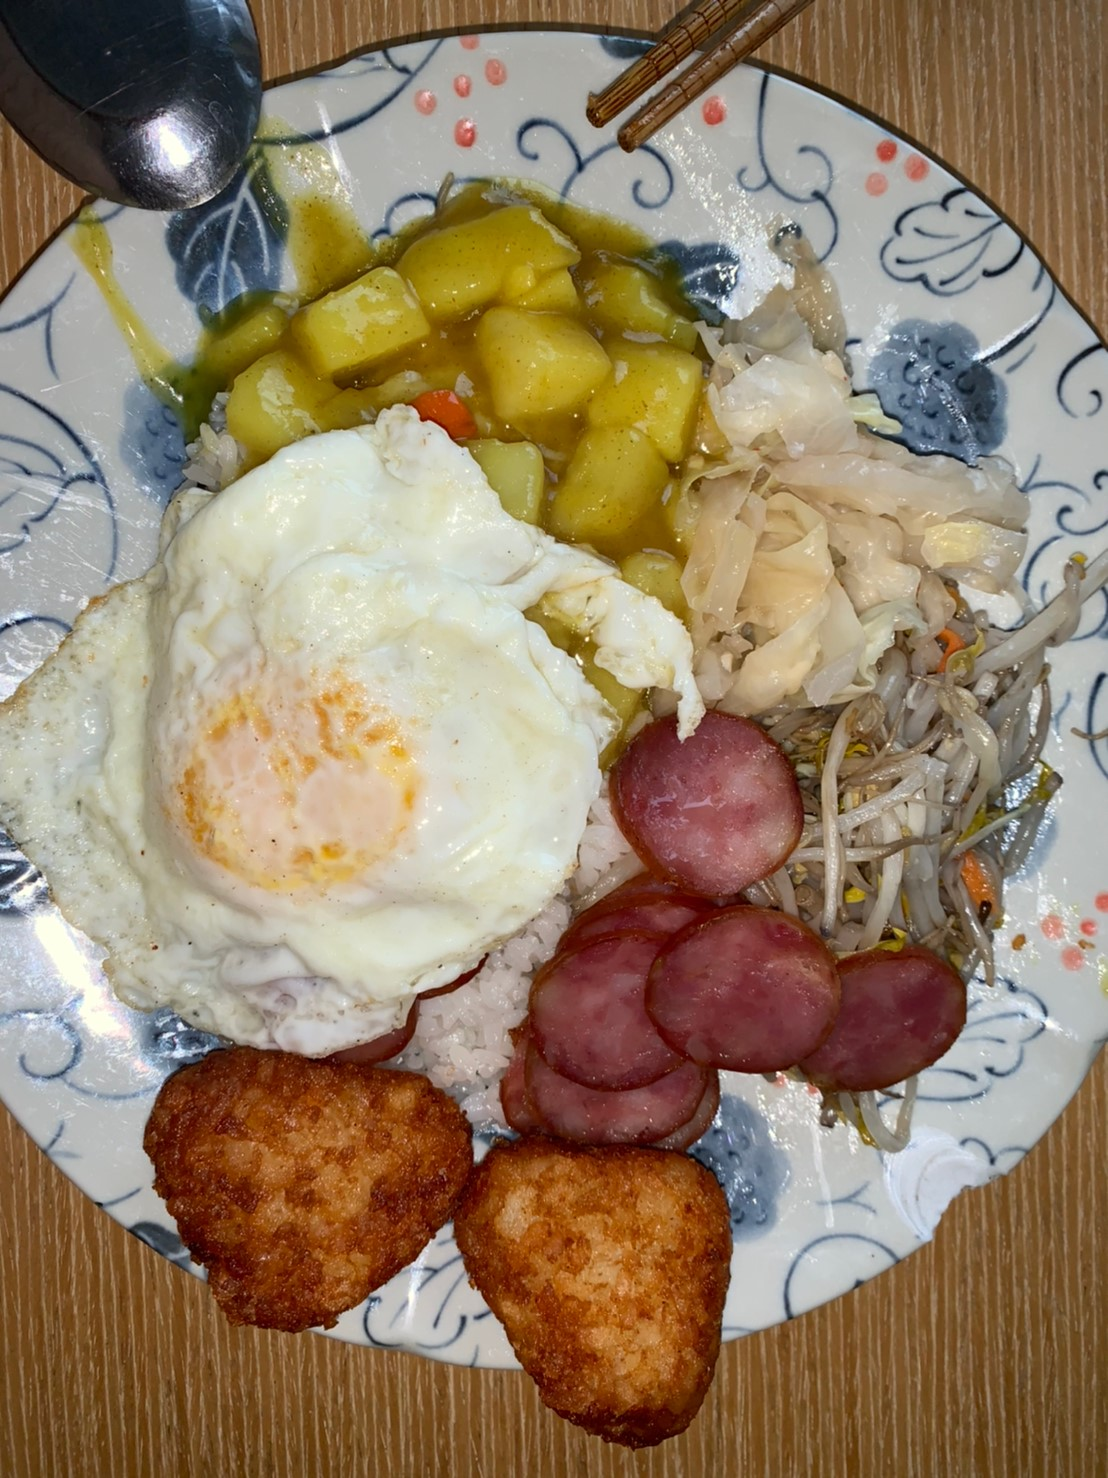chinese_cabbage: (694, 361, 1010, 691)
chinese_sausage: (502, 704, 974, 1149)
curry: (214, 211, 697, 506)
fried_eggs: (1, 422, 594, 1040)
mung_bean_sprouts: (800, 630, 1054, 935)
rice: (416, 955, 531, 1092)
triangle_hash_brown: (147, 1042, 733, 1454)
